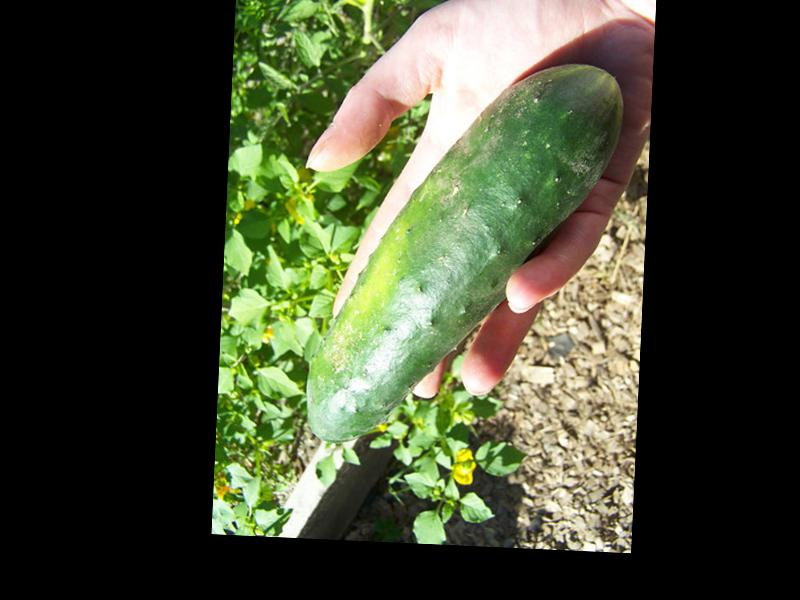Cucumber: (305, 54, 623, 456)
